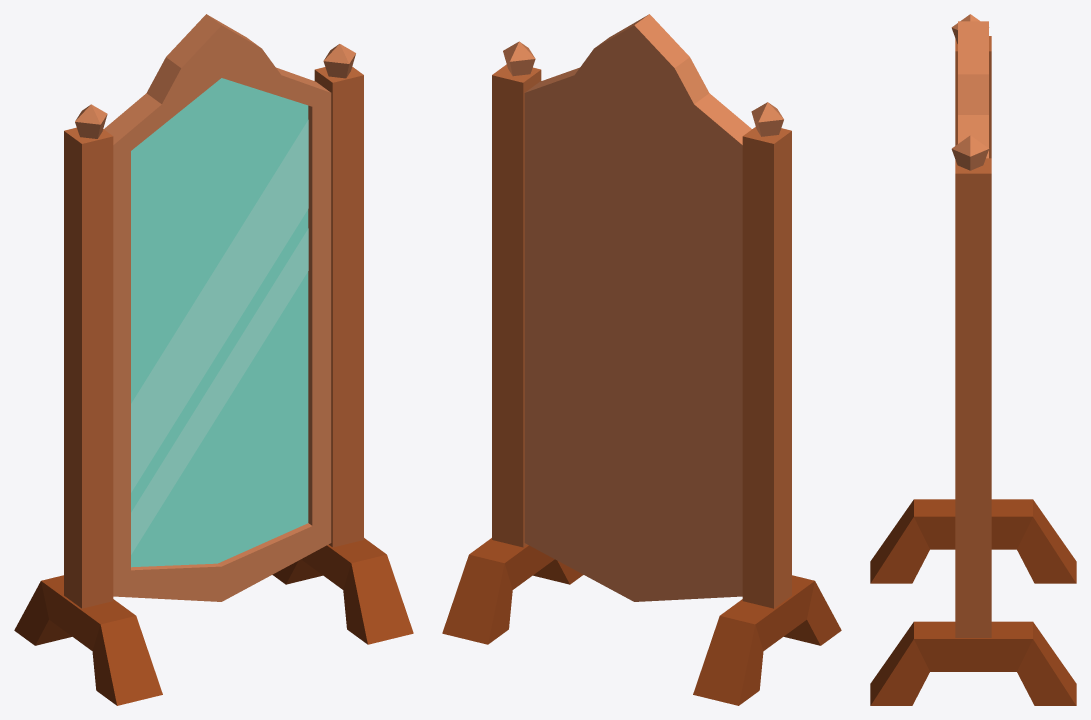
Rendered from Mirror 01.fbx.
3 renders of one model, left to right at view 1: azimuth 30°, elevation 25°; view 2: azimuth 150°, elevation 25°; view 3: azimuth 270°, elevation 25°, orthographic.
Visible parts, largest first — view 1: Mirror_01; view 2: Mirror_01; view 3: Mirror_01.
Part boxes in pixels (<box>): Mirror_01: <box>14,14,413,705</box>; Mirror_01: <box>442,14,841,705</box>; Mirror_01: <box>870,14,1076,705</box>.
Bounding box in the file's own units: 113 × 224 × 68.2.
